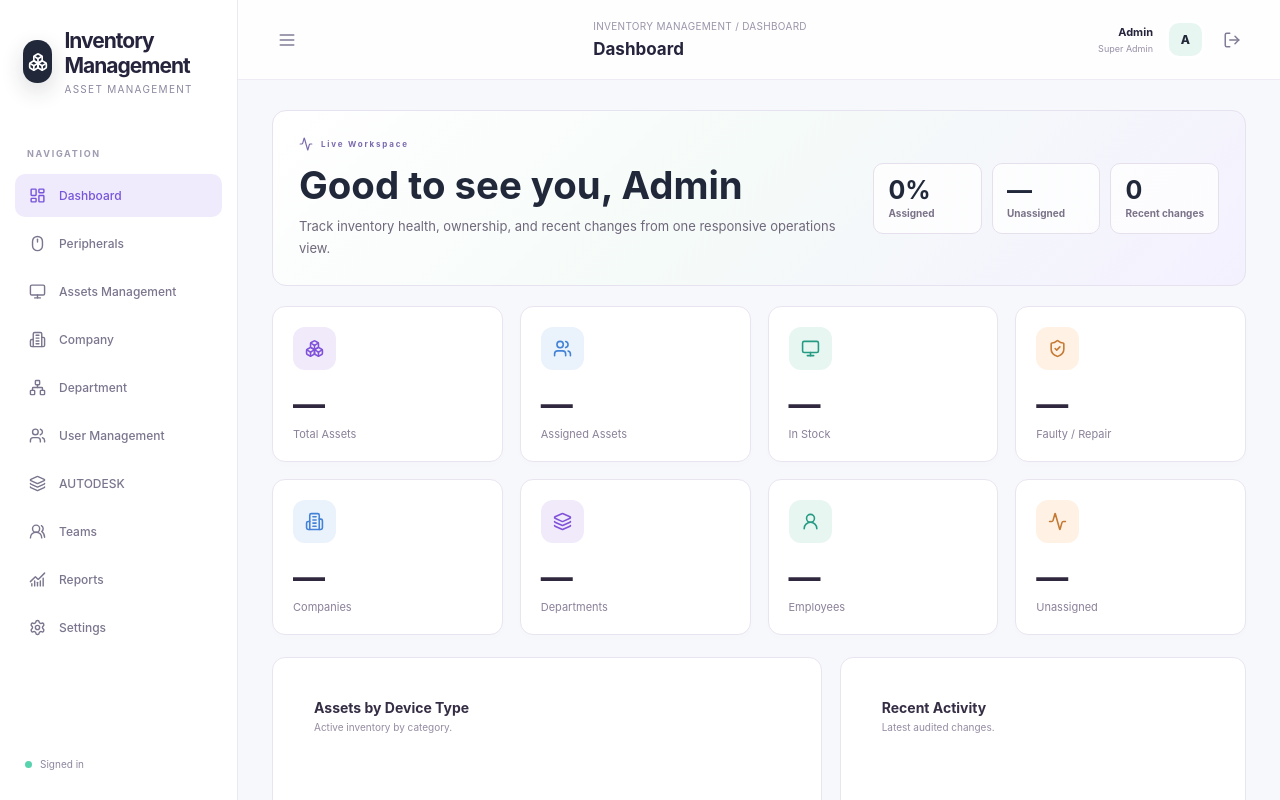
Test: renders the Company section and its icons
Click the button "Company" at coordinates (118, 340), box x1=15 y1=318 x2=222 y2=361
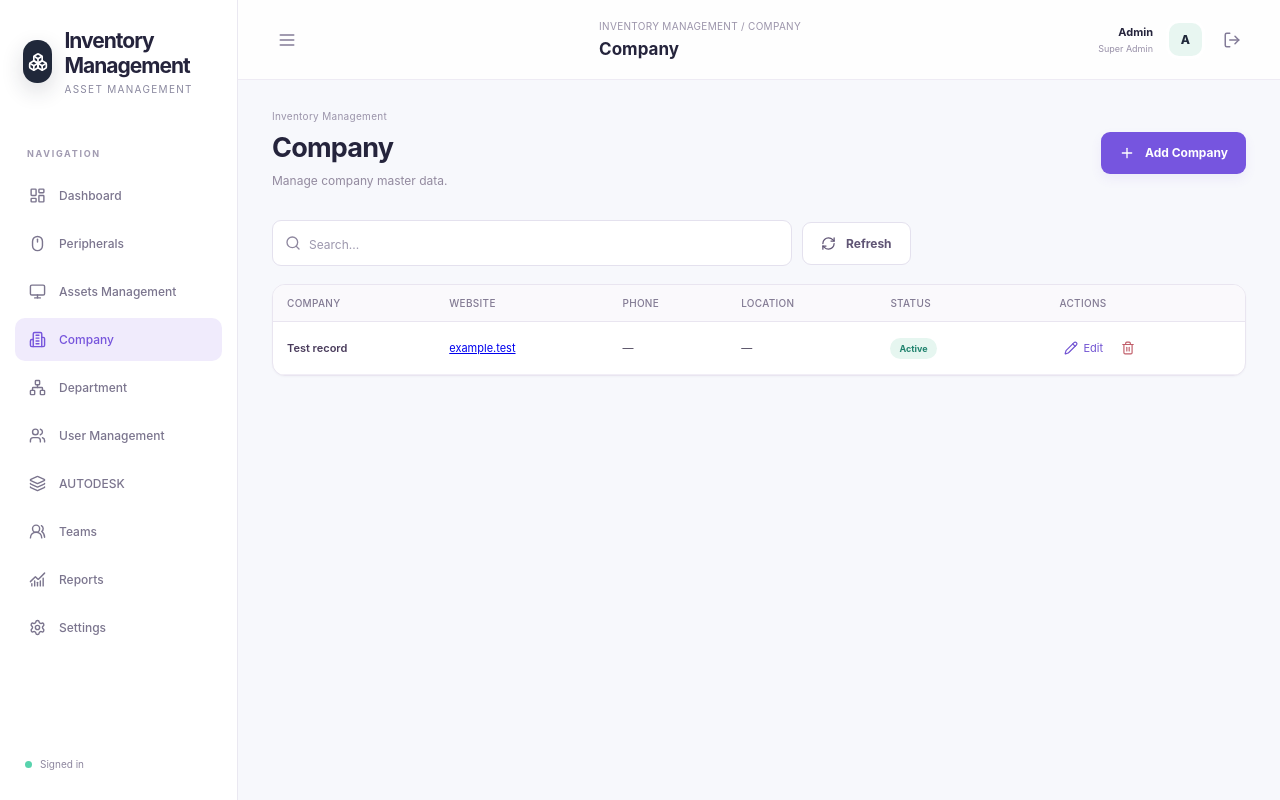
Check: the heading "Company" in the row of "Super Admin" is shown, box x1=599 y1=39 x2=679 y2=59
